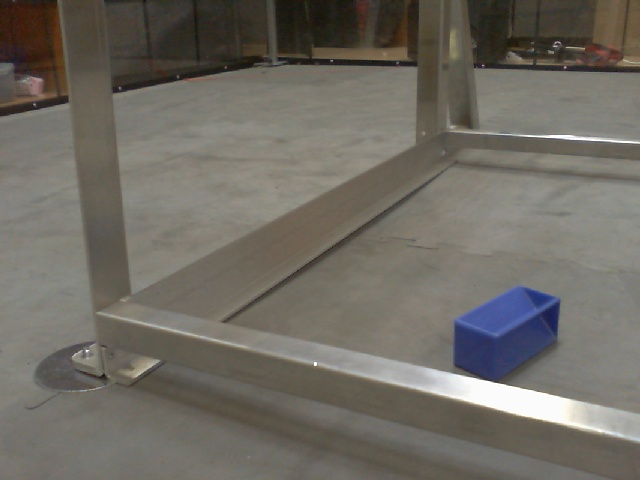BlueSample: (453, 284, 562, 378)
